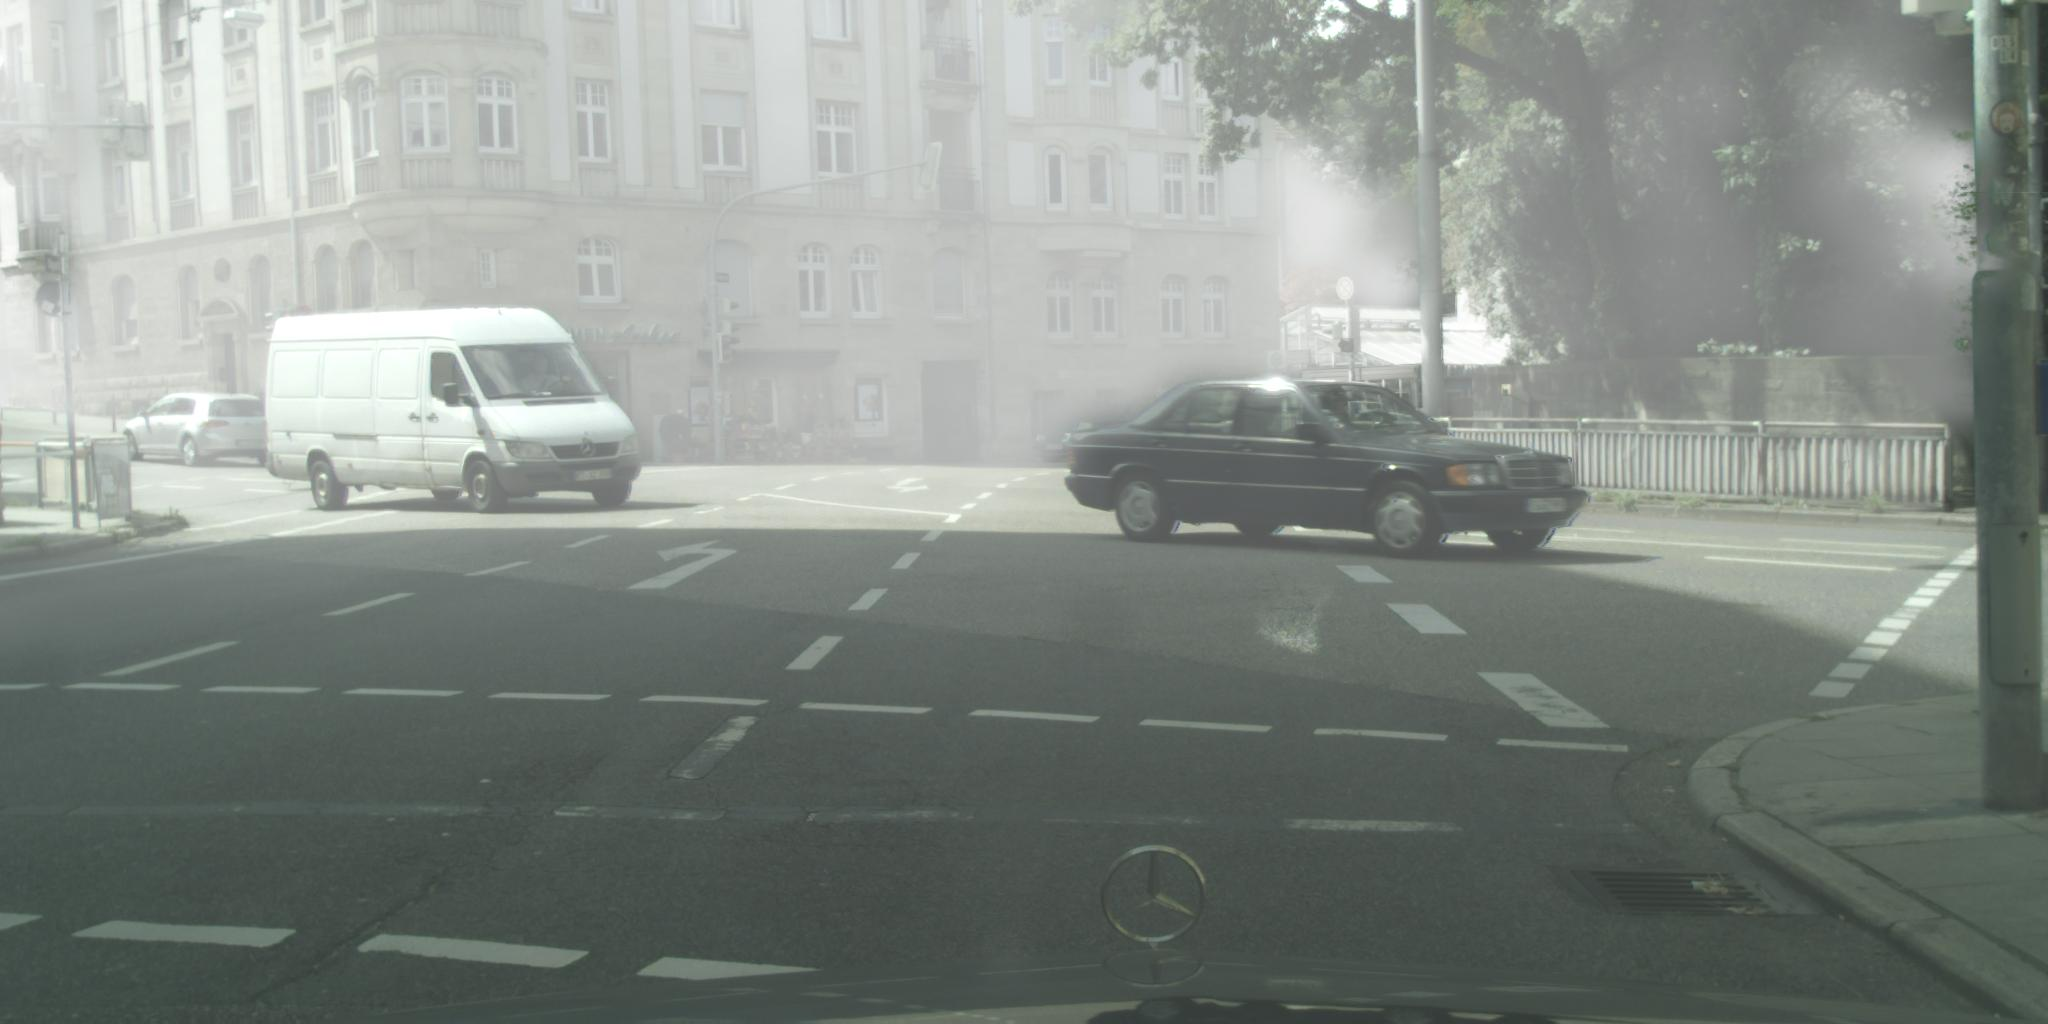car: (1063, 381, 1592, 560), (263, 306, 644, 515), (120, 393, 283, 469), (1034, 405, 1162, 462)
